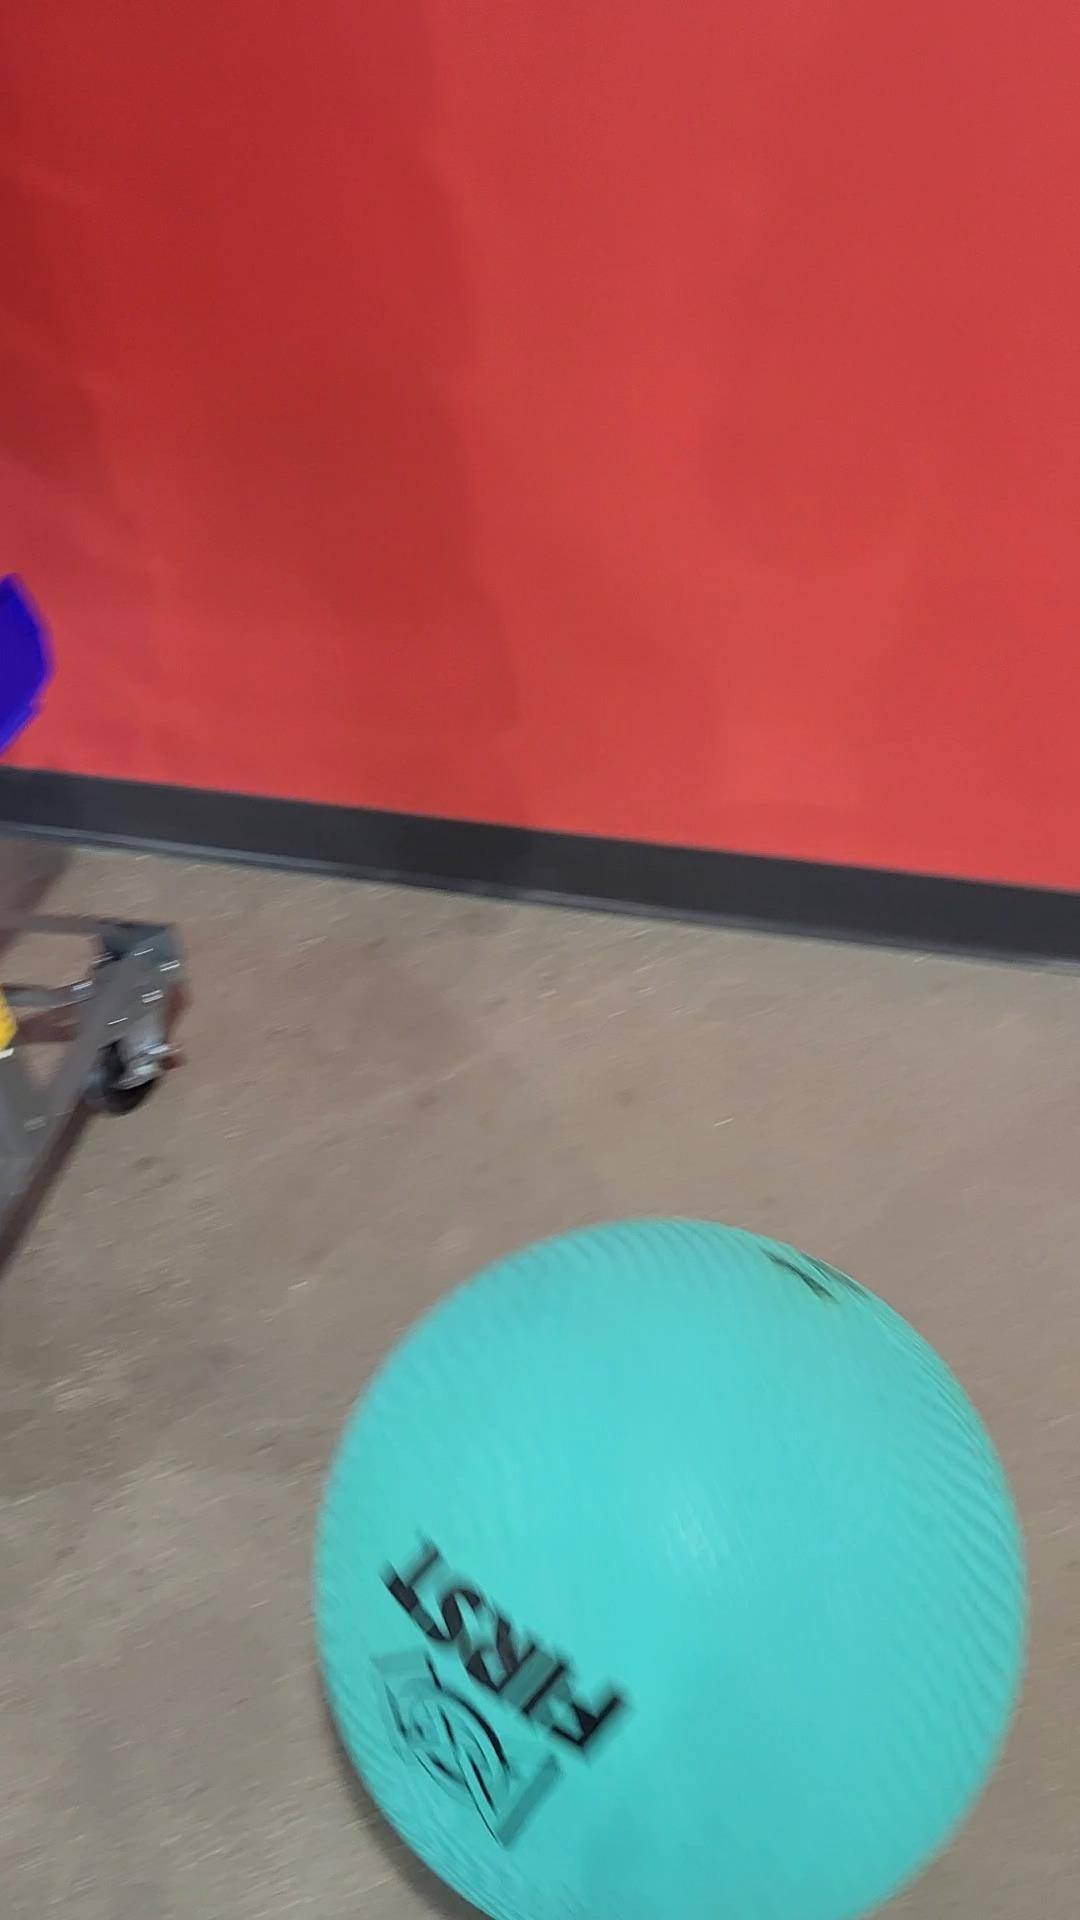algae: (311, 1216, 1022, 1920)
